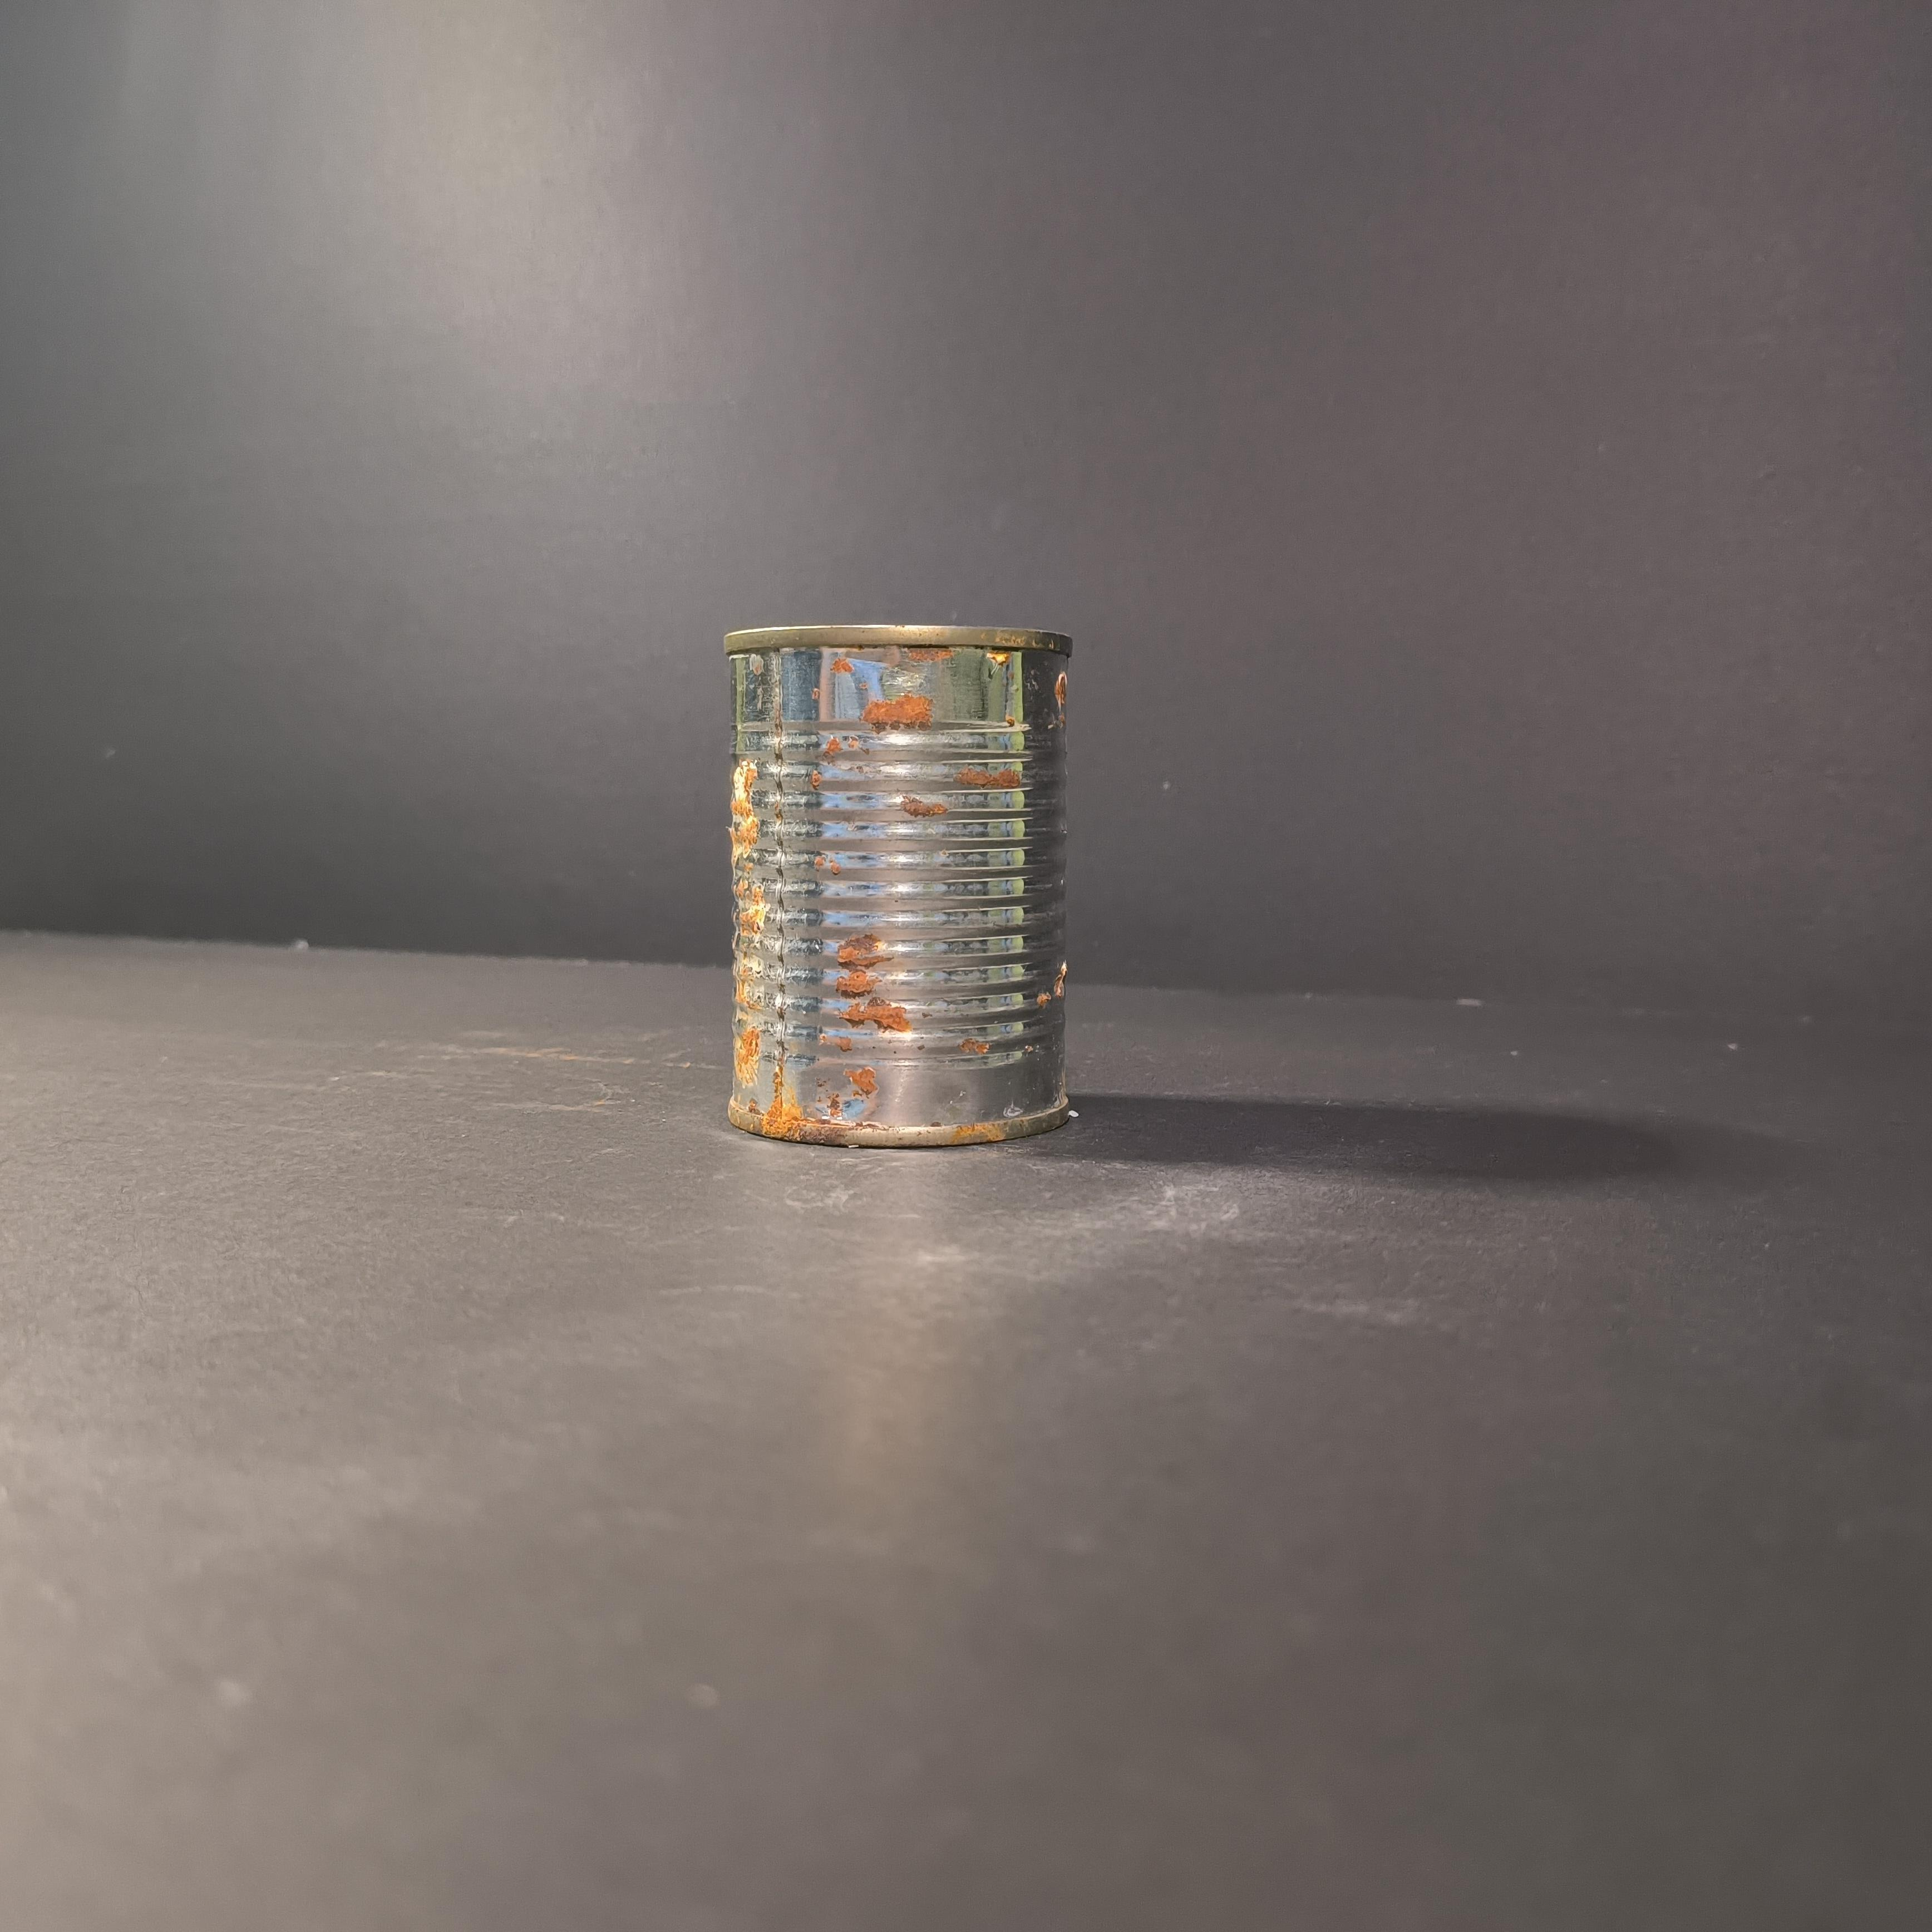Rusted: (709, 593, 1099, 1157)
